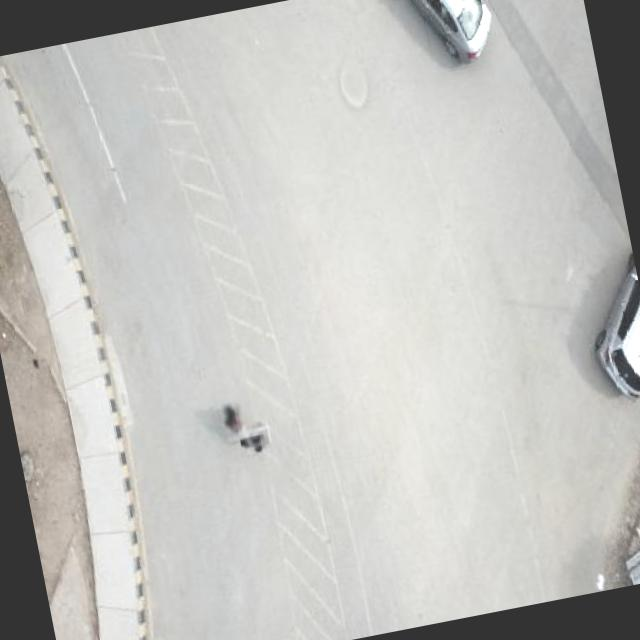Person: (220, 402, 247, 444), (241, 424, 270, 453)
